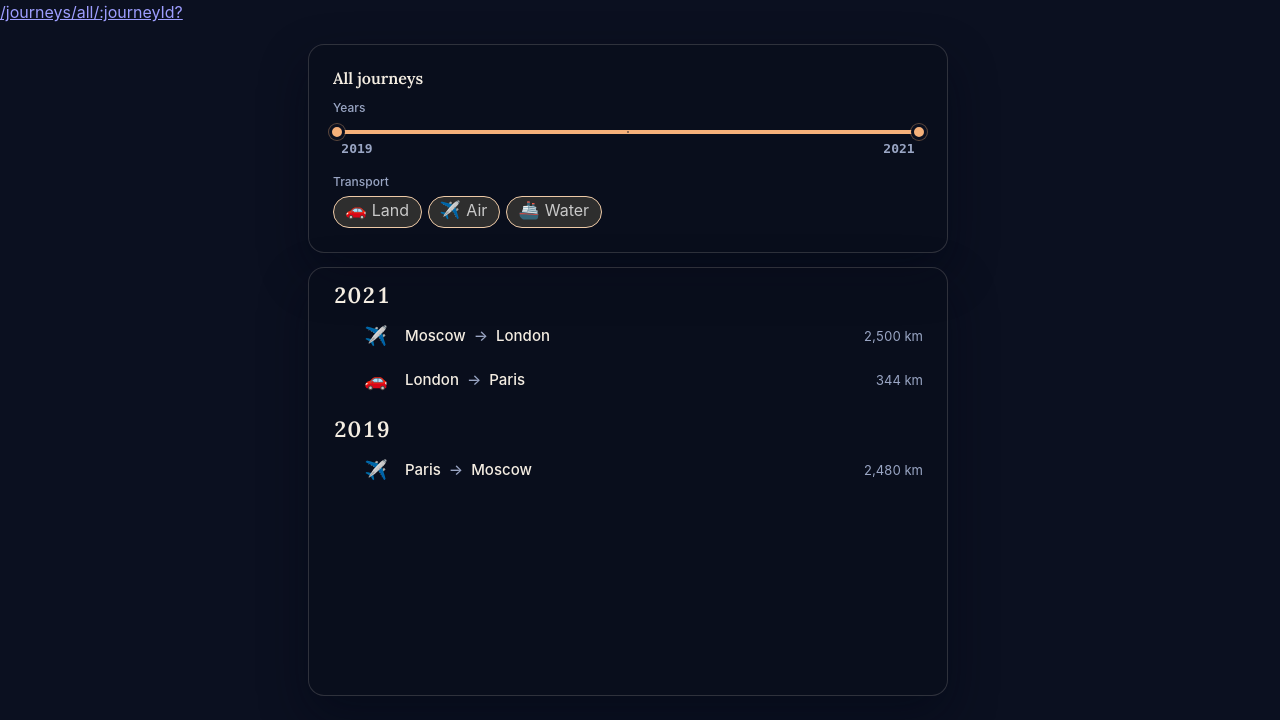
Scenario: AllJourneysView — правка в карточке поездки › выбор того же значения не отправляет запрос и не пишет «Saved»
Click the link named "Moscow to London" at (435, 336), box [365,325,923,347]
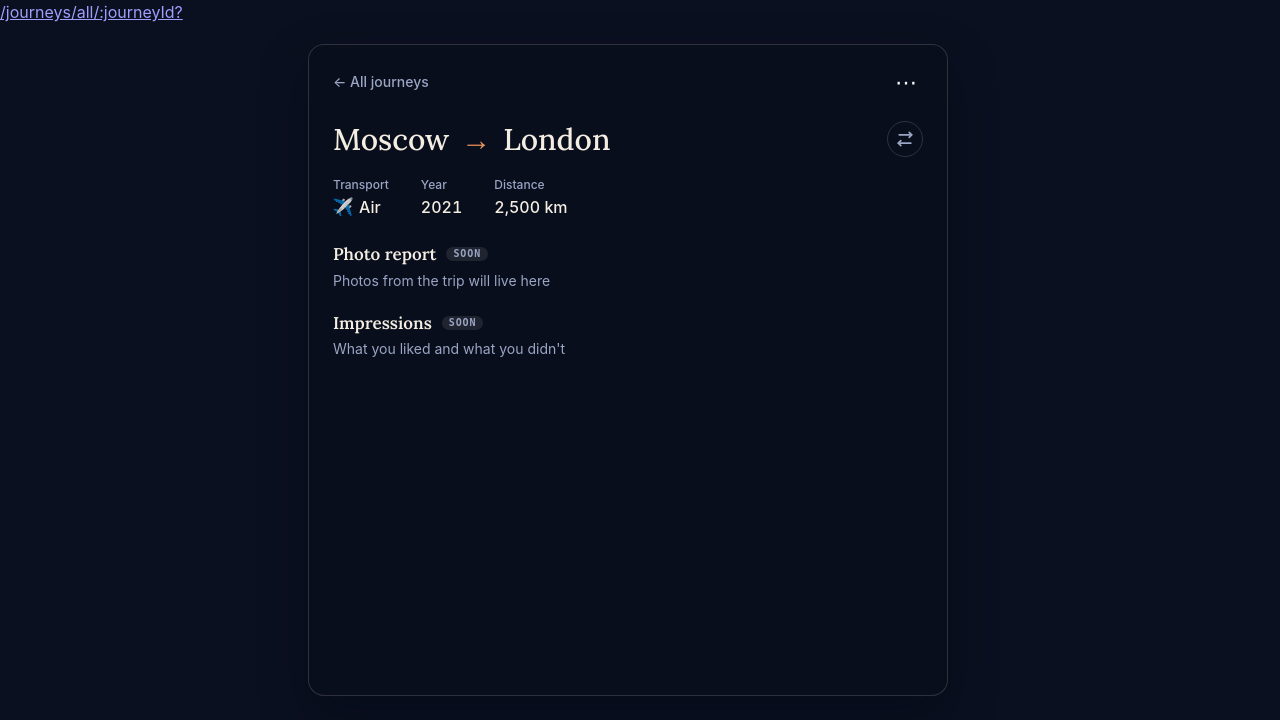
Expected: the heading named "Moscow to London" is shown, [327,119,616,175]
Click the button "Air" at (357, 210), box [327,194,387,225]
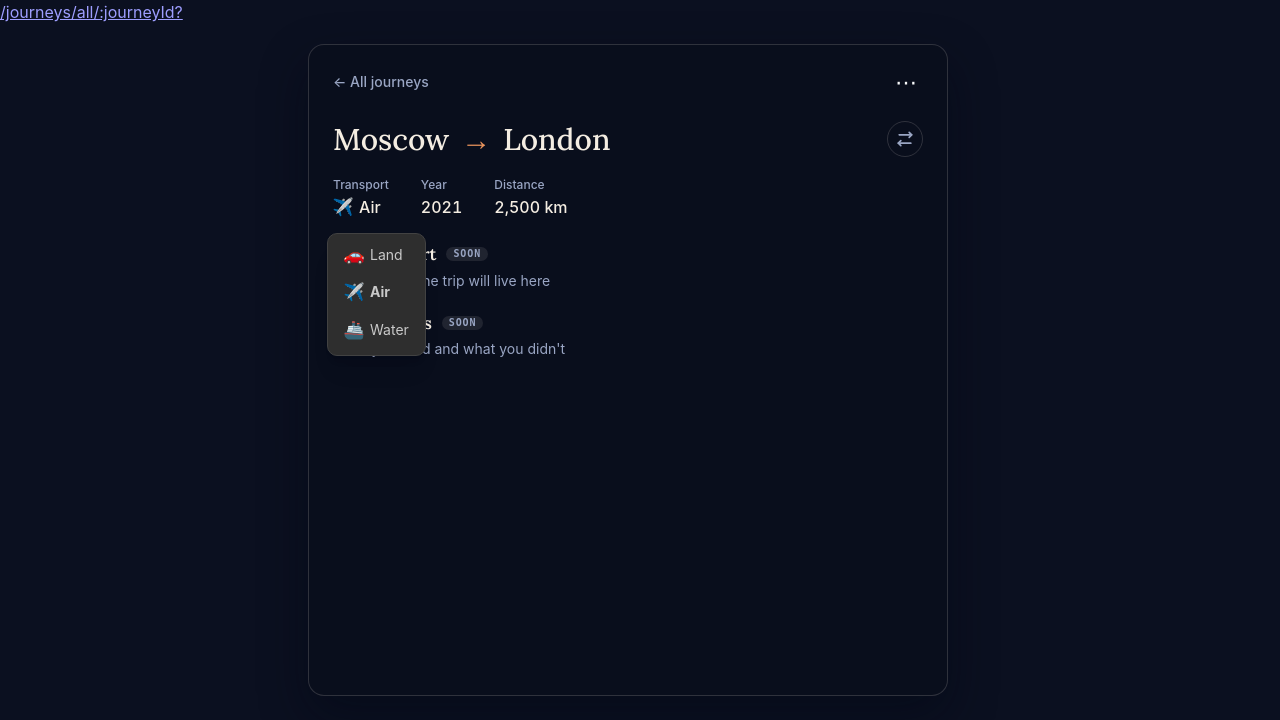
Click the menu item "Air" at (376, 294), box [332,276,421,313]
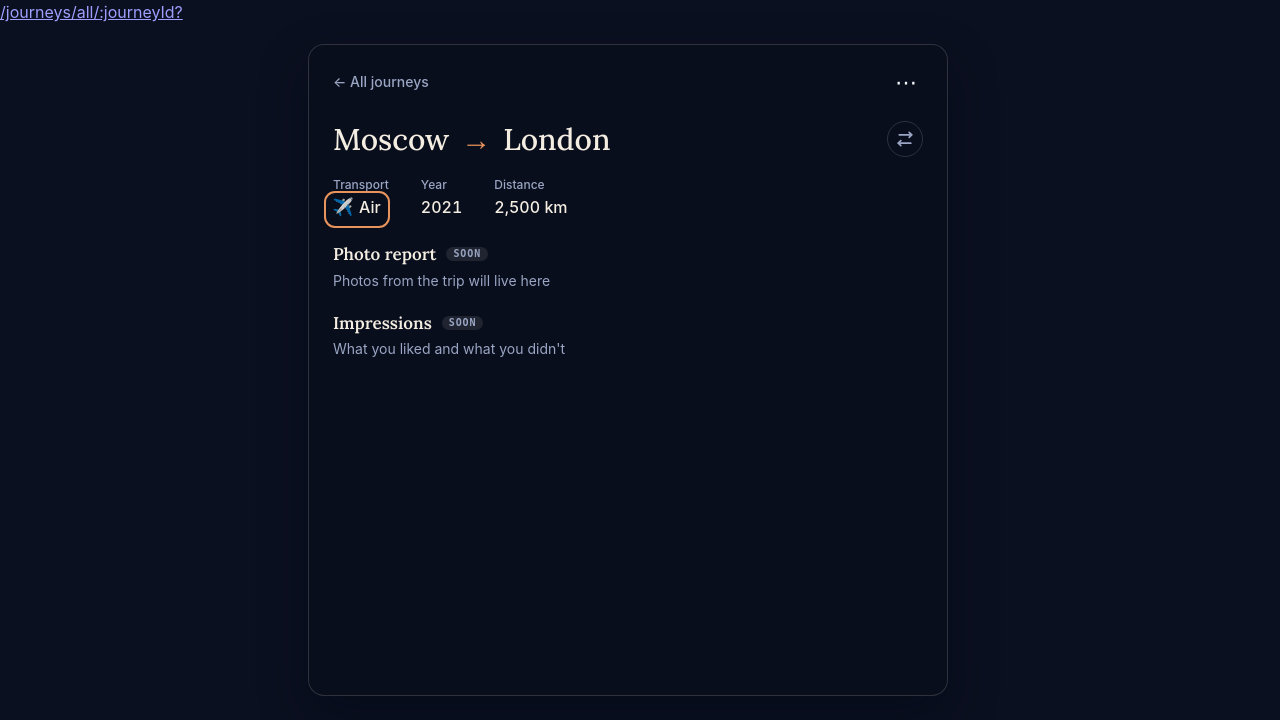
Result: the menu is gone
